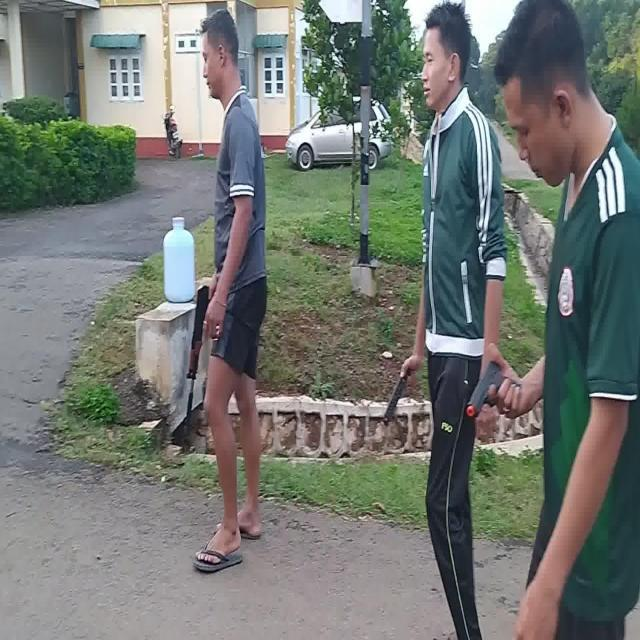gun: (186, 286, 210, 431), (466, 361, 520, 417)
